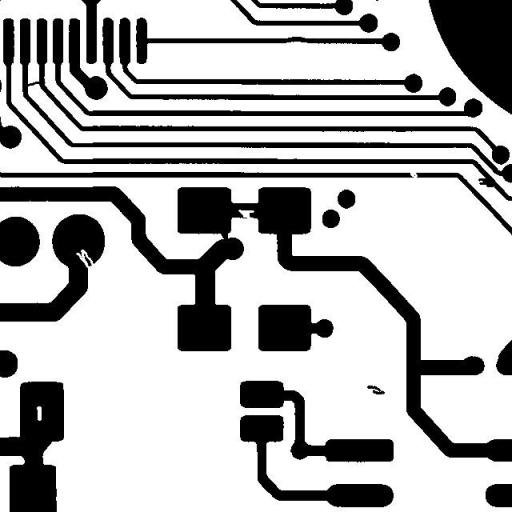copper: (359, 378, 392, 402)
mousebite: (68, 242, 102, 279), (230, 202, 262, 227)
open: (402, 161, 424, 186)
pin-hole: (29, 398, 49, 428)
short: (14, 74, 53, 95), (212, 220, 235, 250)
spur: (470, 170, 502, 194)
